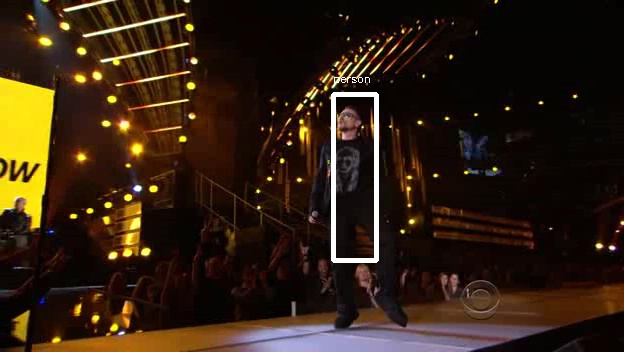person: (315, 107, 384, 222), (312, 107, 381, 222), (318, 107, 387, 222), (315, 104, 384, 219), (315, 110, 384, 225)
target_negative: (64, 43, 513, 238), (294, 207, 523, 314), (315, 205, 447, 275), (68, 308, 109, 344), (16, 280, 52, 316), (408, 128, 415, 263)
